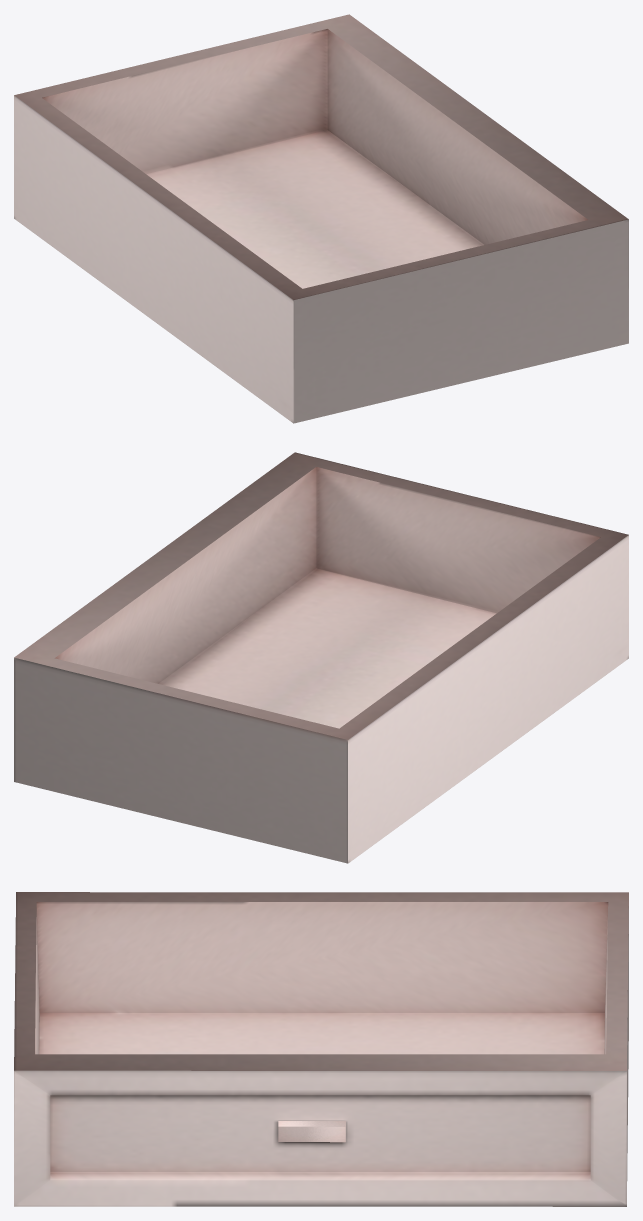
File: drawer3.glb
3 renders of one model, top to bottom at view 1: azimuth 30°, elevation 25°; view 2: azimuth 150°, elevation 25°; view 3: azimuth 270°, elevation 25°, orthographic. The views are drawn at different scales.
Parts seen in each view (by area): view 1: frl_apartment_lower_shelf_01_part_07; view 2: frl_apartment_lower_shelf_01_part_07; view 3: frl_apartment_lower_shelf_01_part_07.
Boxes of the visible parts, left/top/right/bottom form: frl_apartment_lower_shelf_01_part_07: left=14, top=14, right=628, bottom=423; frl_apartment_lower_shelf_01_part_07: left=14, top=452, right=628, bottom=863; frl_apartment_lower_shelf_01_part_07: left=14, top=892, right=628, bottom=1206.
Size of the model in its own units: 0.6112 by 0.2166 by 0.8883.
1 material, 1 textured.
